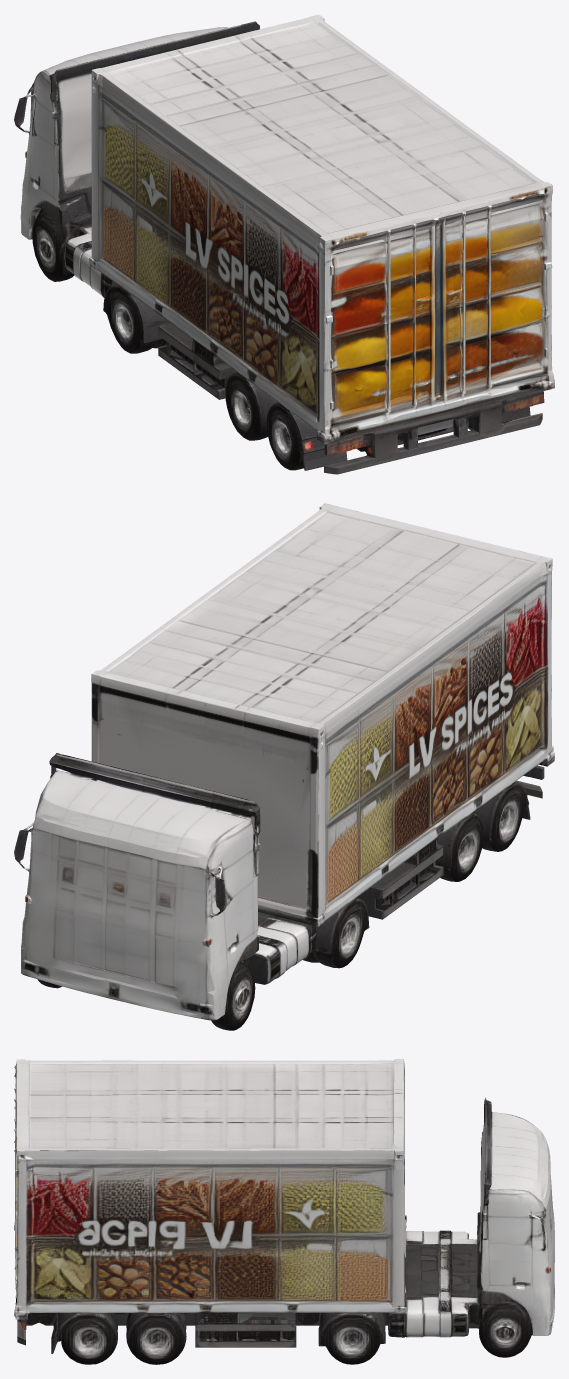
Rendered from base_basic_pbr.glb.
The picture shows the model from 3 angles, top to bottom: view 1: azimuth 30°, elevation 25°; view 2: azimuth 150°, elevation 25°; view 3: azimuth 270°, elevation 25°; orthographic projection. The views are drawn at different scales.
Parts seen in each view (by area): view 1: model; view 2: model; view 3: model.
Boxes of the visible parts, bbox=[...] form: model: bbox=[14, 14, 554, 474]; model: bbox=[14, 503, 554, 1030]; model: bbox=[14, 1059, 554, 1364].
Bounding box in the file's own units: 0.773 × 0.8361 × 1.9.
Materials: 1 (1 with a texture image).
